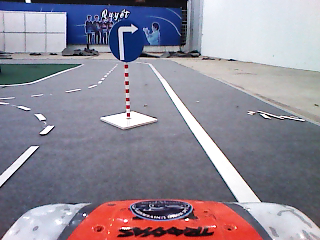turn: (106, 18, 146, 64)
